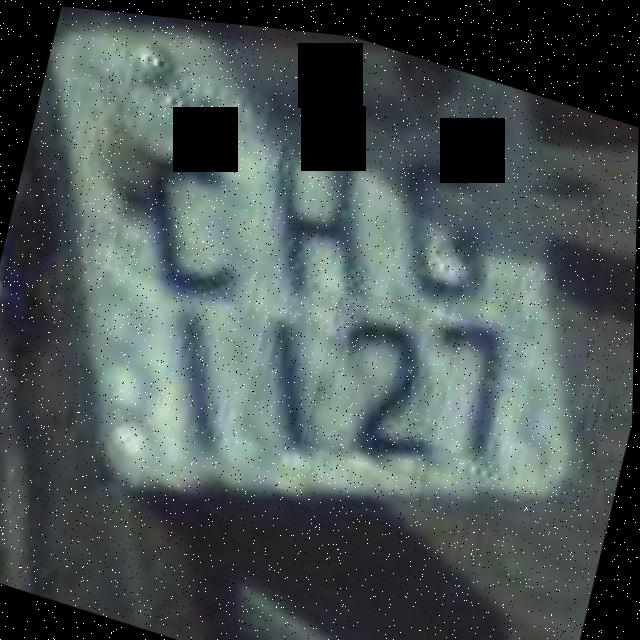1: (240, 298, 349, 456), (145, 290, 251, 451)
2: (305, 274, 465, 475)
7: (400, 295, 539, 459)
C: (109, 104, 275, 302)
H: (255, 127, 404, 316)
